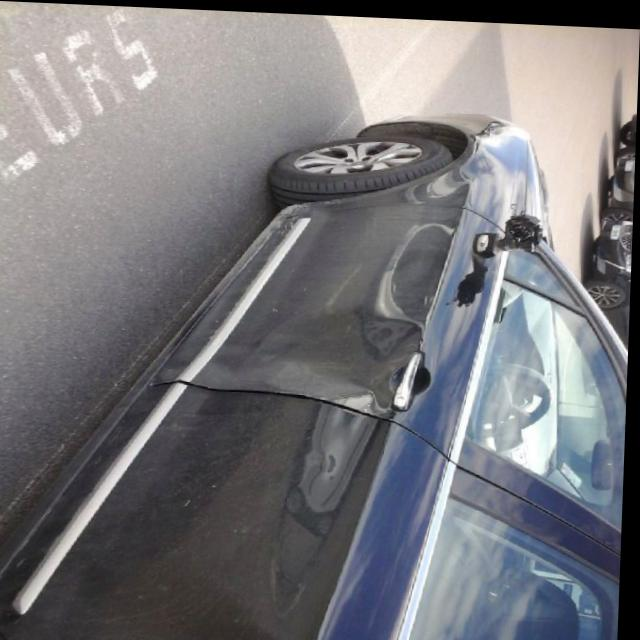porte-avant: (139, 218, 632, 539)
